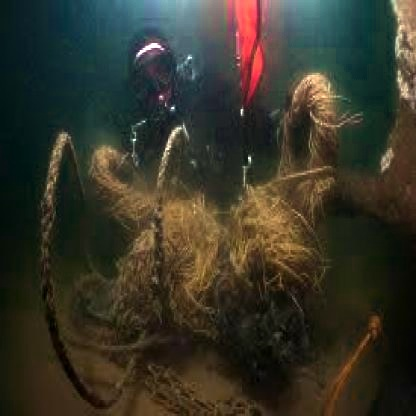net: (41, 127, 331, 382)
